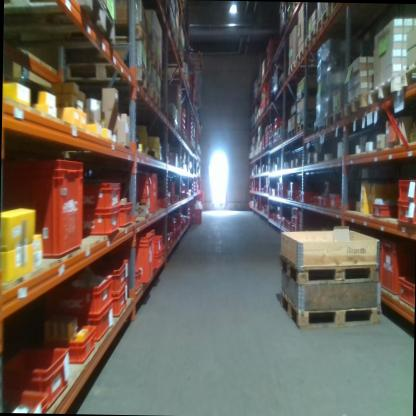pallet: (9, 17, 150, 58), (3, 0, 117, 46), (281, 288, 382, 328), (279, 248, 379, 283), (59, 62, 153, 94), (368, 71, 401, 106), (343, 92, 368, 119), (399, 57, 416, 89), (315, 5, 331, 37), (324, 105, 344, 130), (150, 46, 163, 80), (149, 85, 163, 115), (296, 116, 319, 134), (304, 25, 317, 52), (296, 88, 322, 100), (295, 46, 305, 65), (287, 59, 296, 79), (285, 127, 296, 142), (331, 2, 344, 13), (275, 78, 283, 93), (277, 135, 284, 147), (271, 140, 276, 152), (268, 144, 272, 152), (264, 145, 267, 154)
small_load_carrier: (17, 161, 81, 259), (14, 345, 69, 408), (38, 321, 98, 363), (35, 306, 111, 338), (45, 277, 113, 310), (72, 257, 128, 295), (379, 238, 399, 297), (81, 178, 119, 209), (132, 229, 152, 282), (0, 391, 47, 413), (83, 209, 116, 238), (398, 276, 414, 306), (112, 290, 127, 320), (117, 200, 132, 228), (397, 201, 416, 223), (372, 203, 398, 217), (329, 194, 355, 208), (398, 181, 416, 201), (129, 197, 149, 214), (150, 172, 158, 211), (130, 181, 150, 196), (130, 172, 149, 185), (130, 268, 140, 292), (152, 249, 163, 269), (319, 194, 331, 208), (153, 235, 160, 254), (194, 209, 202, 225), (291, 222, 305, 231), (292, 206, 301, 217), (157, 197, 165, 208), (292, 215, 301, 224)
